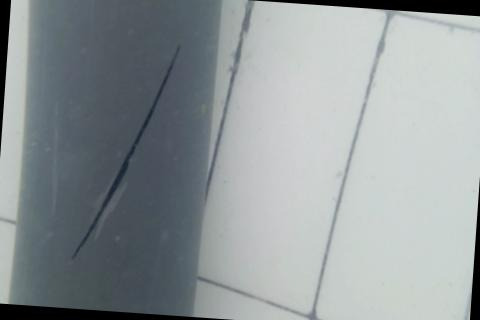keretakan: (68, 38, 180, 270)
